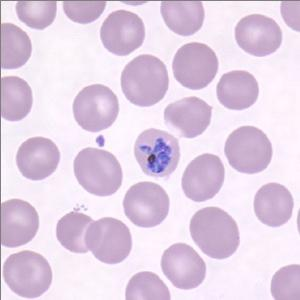Infected: (134, 128, 181, 176)
Uninfected: (121, 55, 169, 107), (73, 146, 122, 196), (191, 207, 238, 259), (2, 251, 54, 298), (224, 126, 273, 174), (181, 153, 226, 203), (172, 42, 218, 90), (85, 217, 131, 265), (72, 83, 117, 132), (99, 10, 146, 56), (161, 242, 206, 290), (163, 96, 214, 138), (123, 181, 169, 227), (234, 15, 281, 57), (253, 182, 295, 229), (0, 198, 40, 247), (16, 136, 58, 180), (56, 212, 100, 253), (159, 0, 206, 37), (217, 70, 259, 110), (0, 75, 33, 121), (0, 23, 32, 70), (126, 272, 171, 300), (14, 0, 57, 28)
